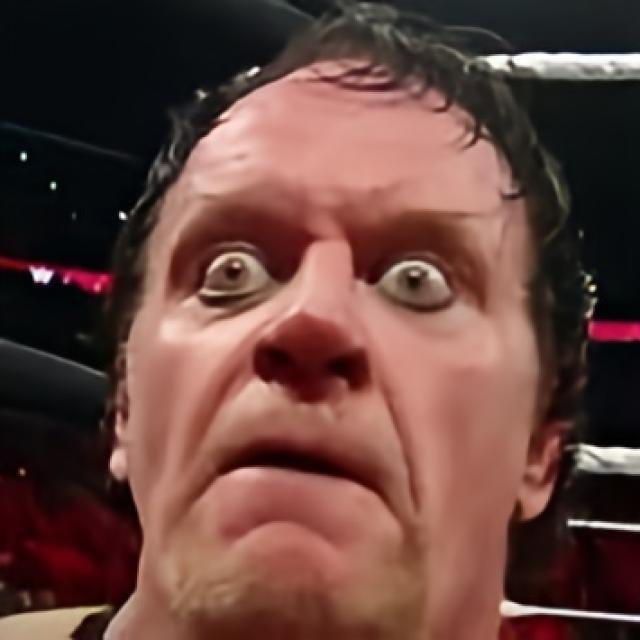Fear: (133, 50, 539, 640)
